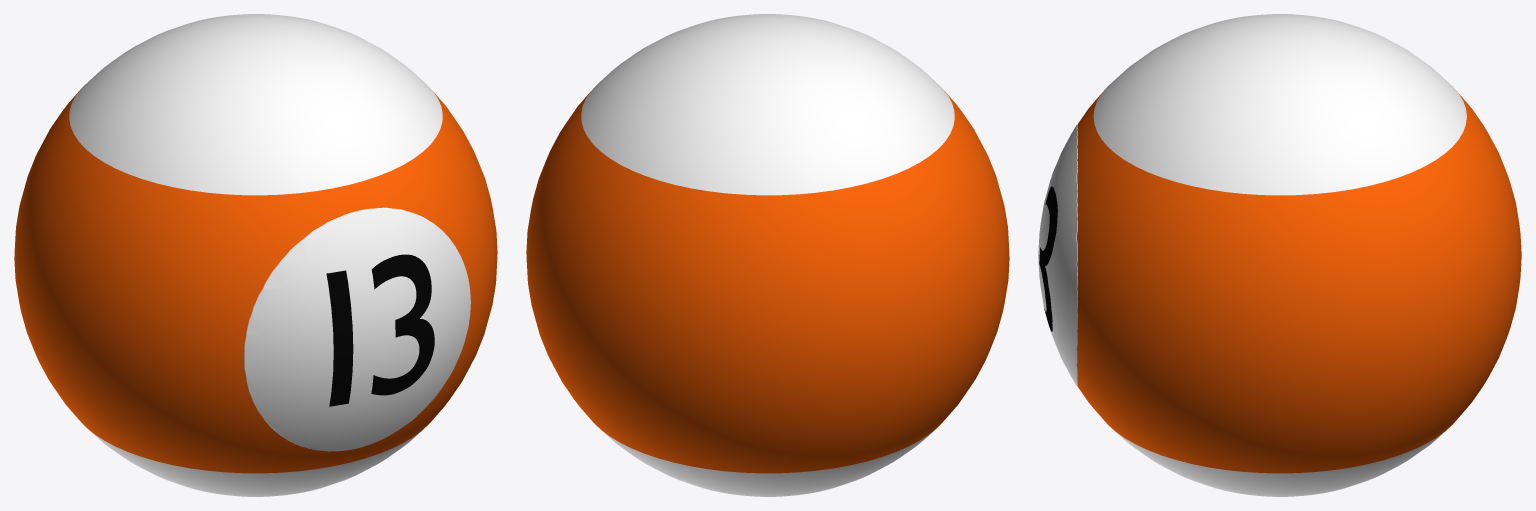
File: Ball13.fbx
3 views of the same model, side by side, from view 1: azimuth 30°, elevation 25°; view 2: azimuth 150°, elevation 25°; view 3: azimuth 270°, elevation 25° (orthographic).
Visible parts, largest first — view 1: Ball13; view 2: Ball13; view 3: Ball13.
Part boxes in pixels (x1,y1,x2,y2): Ball13: (14,14,497,496); Ball13: (526,14,1009,496); Ball13: (1038,14,1521,496).
Size of the model in its own units: 5.7 by 5.7 by 5.7.
